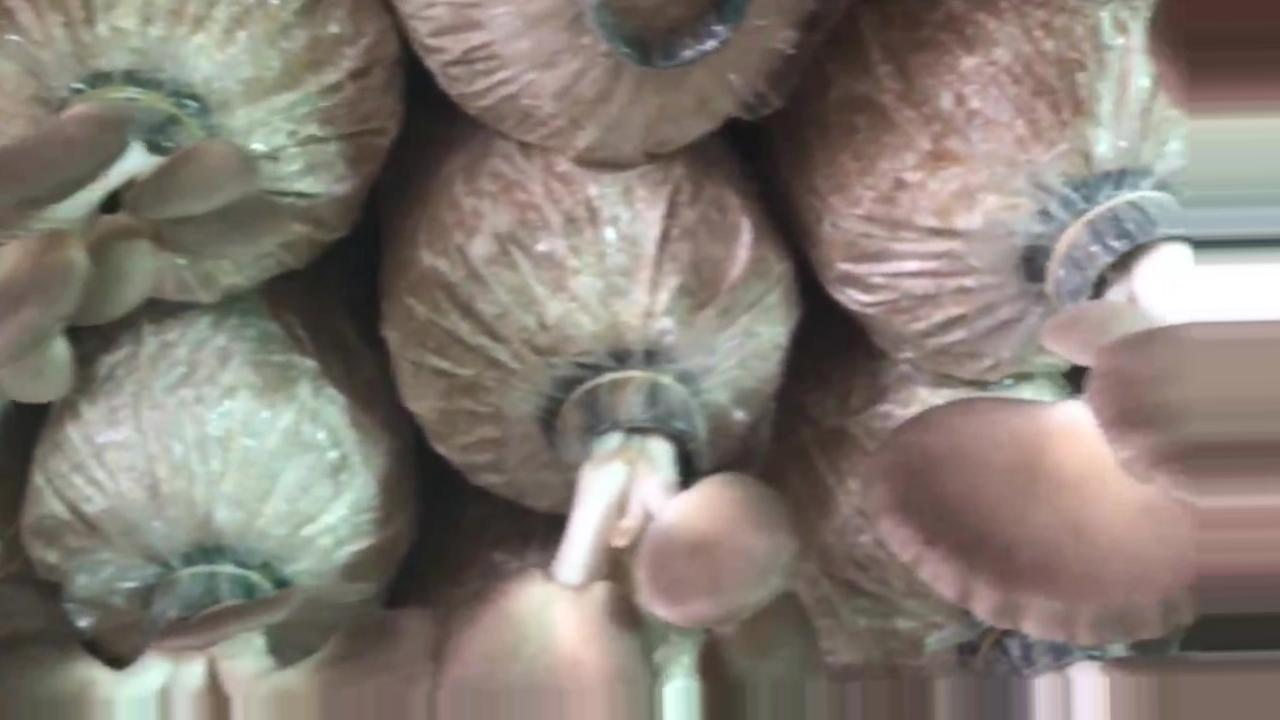nam: (868, 175, 1278, 652), (439, 366, 803, 720), (1, 77, 305, 406), (4, 553, 442, 720)
